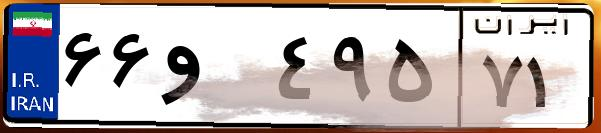1: (525, 38, 570, 115)
4: (270, 28, 330, 110)
5: (385, 28, 445, 110)
6: (57, 26, 110, 100), (110, 28, 158, 98)
7: (475, 38, 525, 113)
9: (330, 28, 385, 110)
و: (158, 20, 270, 120)
